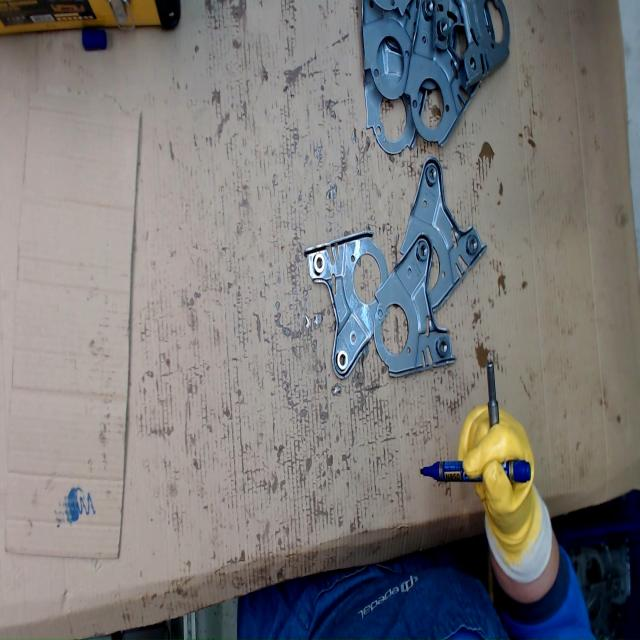hands: (457, 399, 541, 562)
